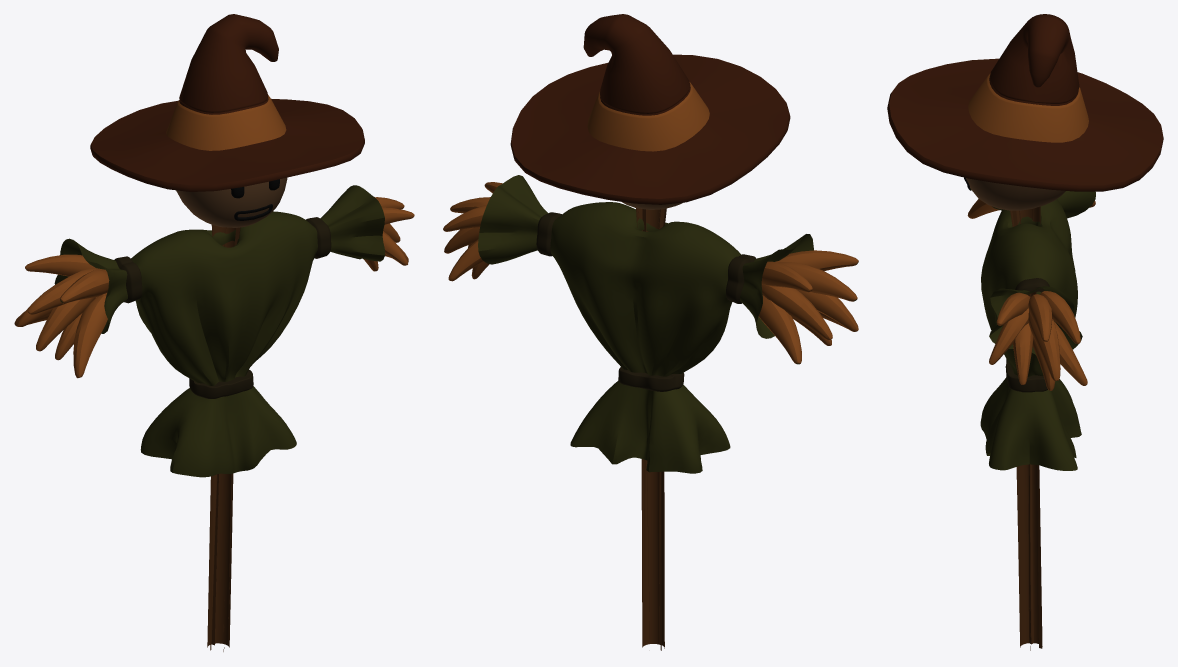
Rendered from scarecrow.glb.
3 views of the same model, side by side, from view 1: azimuth 30°, elevation 25°; view 2: azimuth 150°, elevation 25°; view 3: azimuth 270°, elevation 25° (orthographic). The views are drawn at different scales.
Visible parts, largest first — view 1: scarecrow; view 2: scarecrow; view 3: scarecrow.
Boxes of the visible parts, x1,y1,x2,y2 form: scarecrow: (14, 14, 414, 651); scarecrow: (443, 14, 858, 650); scarecrow: (887, 14, 1163, 650).
Size of the model in its own units: 1.83 by 2.79 by 1.09.
